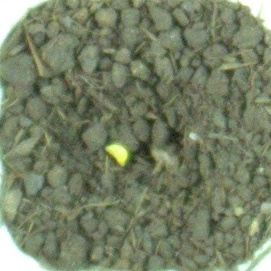pepper seed: (37, 58, 168, 225)
